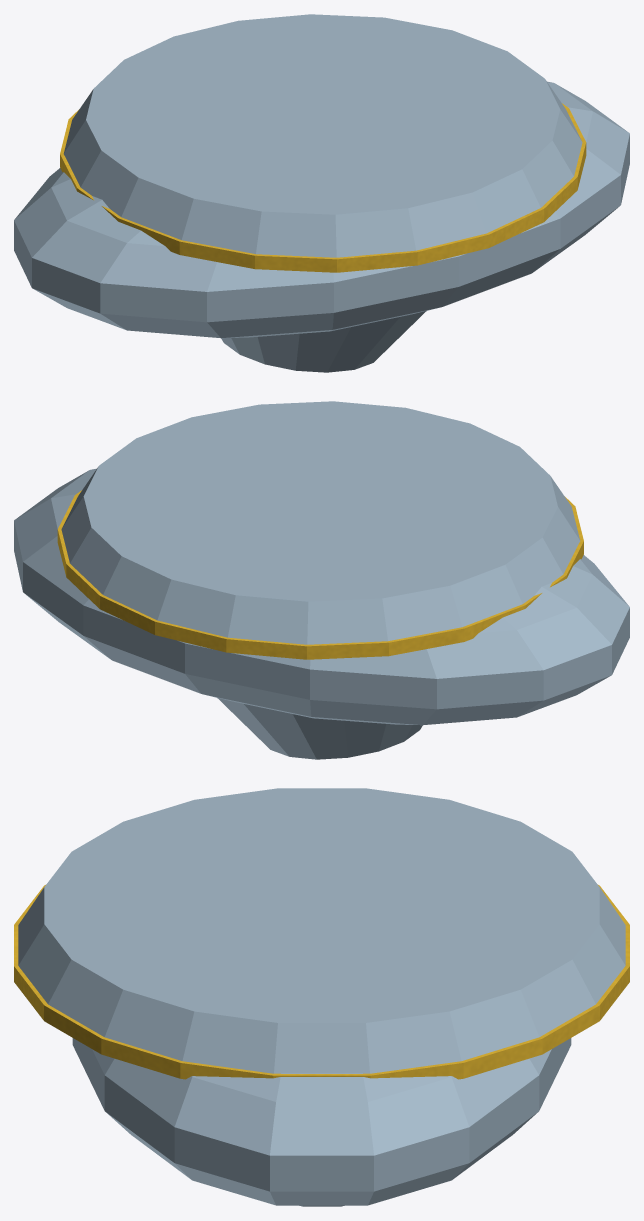
The model's file is hopper_speedfeed_v2.glb.
3 renders of one model, top to bottom at view 1: azimuth 30°, elevation 25°; view 2: azimuth 150°, elevation 25°; view 3: azimuth 270°, elevation 25°, orthographic. The views are drawn at different scales.
Visible parts, largest first — view 1: hopper_speedfeed_mesh; view 2: hopper_speedfeed_mesh; view 3: hopper_speedfeed_mesh.
Boxes of the visible parts, x1=… form: hopper_speedfeed_mesh: x1=14, y1=14, x2=629, y2=372; hopper_speedfeed_mesh: x1=14, y1=401, x2=629, y2=759; hopper_speedfeed_mesh: x1=14, y1=788, x2=629, y2=1206.
Size of the model in its own units: 0.1792 by 0.0689 by 0.1403.
4 materials, 1 textured.
